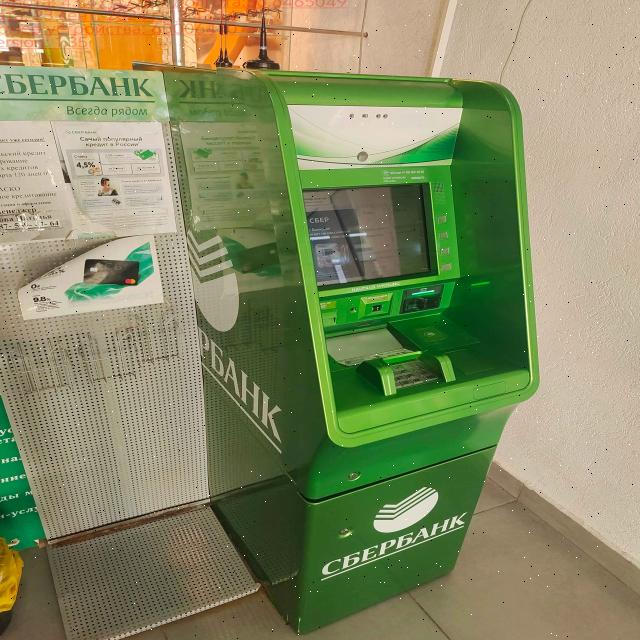bank: (165, 62, 548, 634)
